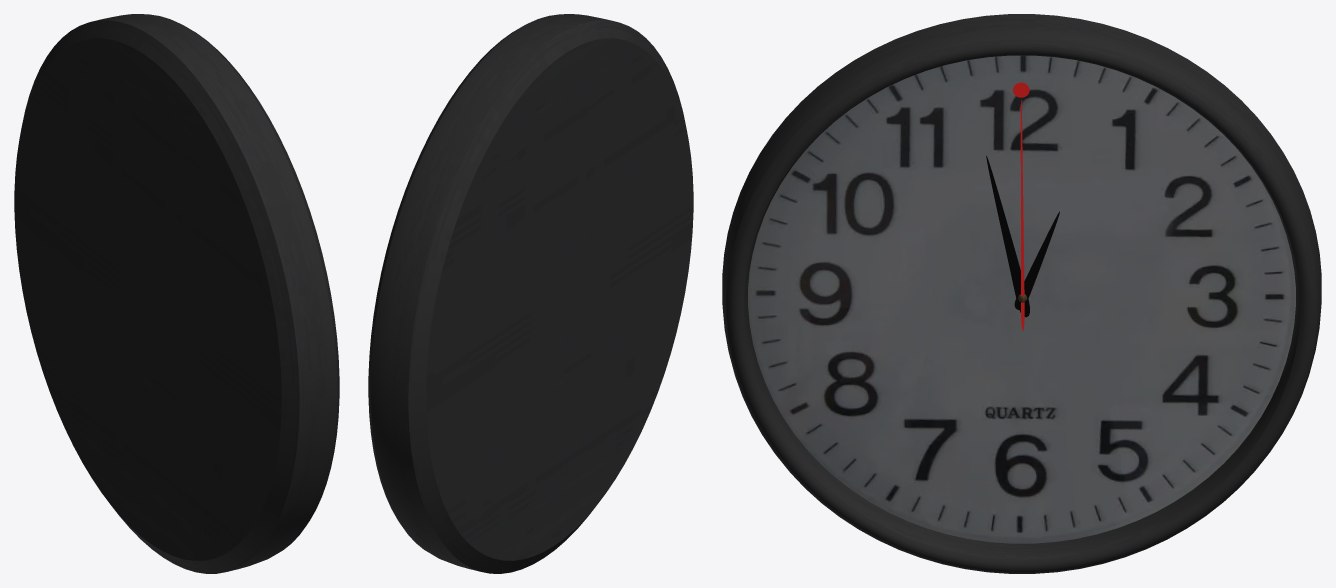
The model's file is clock1_hands-transformed.glb.
The picture shows the model from 3 angles, left to right: view 1: azimuth 30°, elevation 25°; view 2: azimuth 150°, elevation 25°; view 3: azimuth 270°, elevation 25°; orthographic projection. The views are drawn at different scales.
Visible parts, largest first — view 1: shell; view 2: shell; view 3: face, shell, hand minute, hand second.
Part boxes in pixels (box(x1,y1,x2,y2)): shell: box(14, 14, 339, 573); shell: box(368, 14, 693, 573); face: box(748, 55, 1295, 543); shell: box(722, 14, 1321, 573); hand minute: box(986, 155, 1059, 317); hand second: box(1013, 82, 1029, 330).
Size of what is drawn, in the model's own units: 0.1006 by 0.8894 by 0.8894.
Materials: 4 (2 with a texture image).
